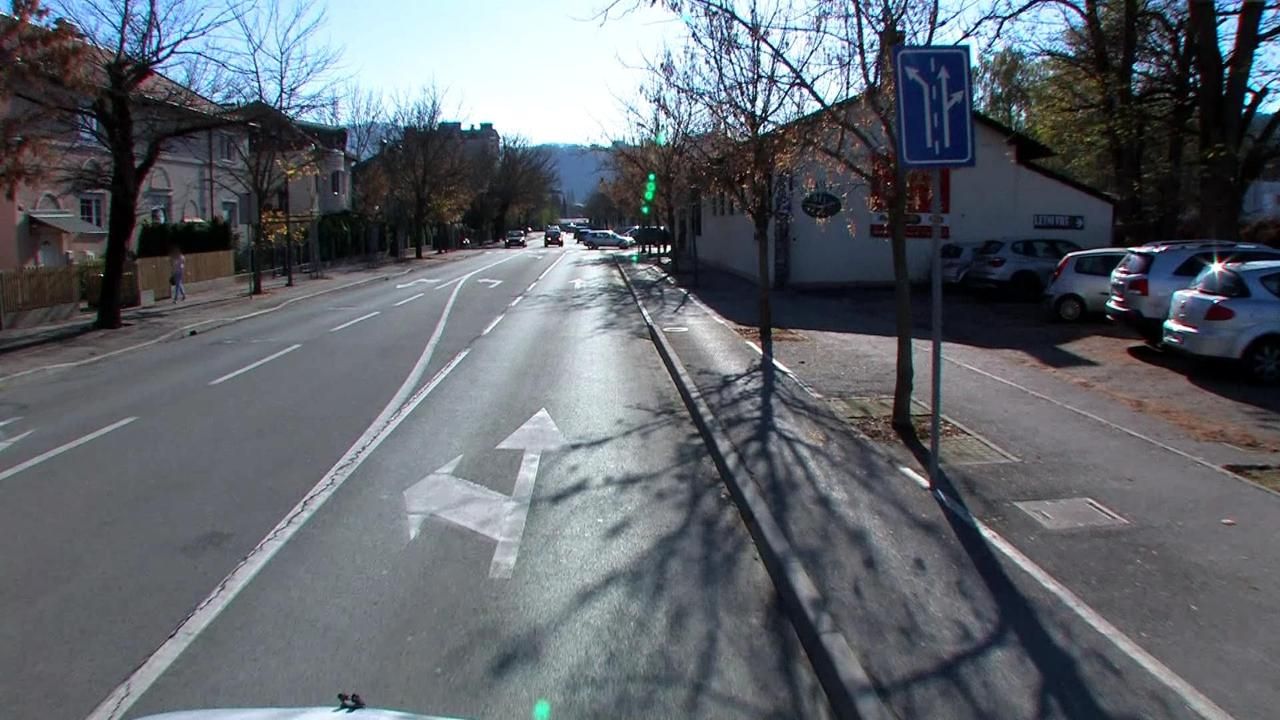Rectangle: (894, 45, 976, 167)
